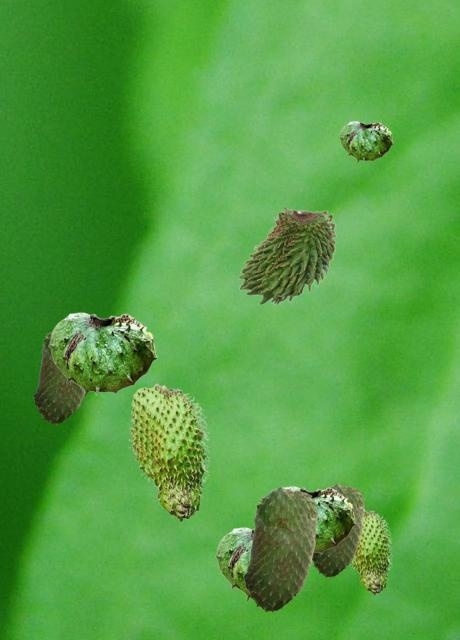guyabano: (128, 383, 210, 521), (237, 205, 336, 304), (243, 486, 318, 612), (48, 312, 156, 397), (284, 486, 355, 554), (313, 483, 364, 577), (33, 331, 83, 424), (348, 509, 392, 594), (215, 527, 253, 601), (339, 121, 392, 162)
